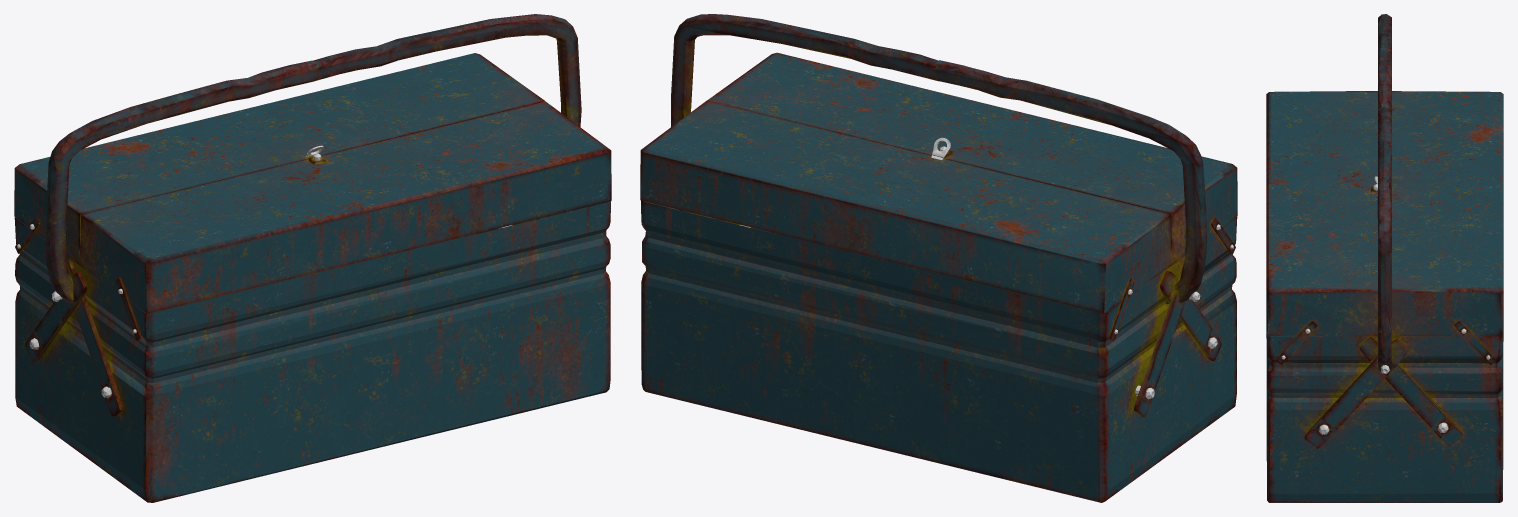
Rendered from GenericProp-Toolbox.fbx.
The picture shows the model from 3 angles, left to right: view 1: azimuth 30°, elevation 25°; view 2: azimuth 150°, elevation 25°; view 3: azimuth 270°, elevation 25°; orthographic projection. The views are drawn at different scales.
Parts seen in each view (by area): view 1: tOOLBOX; view 2: tOOLBOX; view 3: tOOLBOX.
Part boxes in pixels (x1=…): tOOLBOX: x1=14, y1=14, x2=611, y2=502; tOOLBOX: x1=640, y1=14, x2=1237, y2=502; tOOLBOX: x1=1266, y1=14, x2=1503, y2=502.
Bounding box in the file's own units: 89.56 × 54.41 × 39.05.
